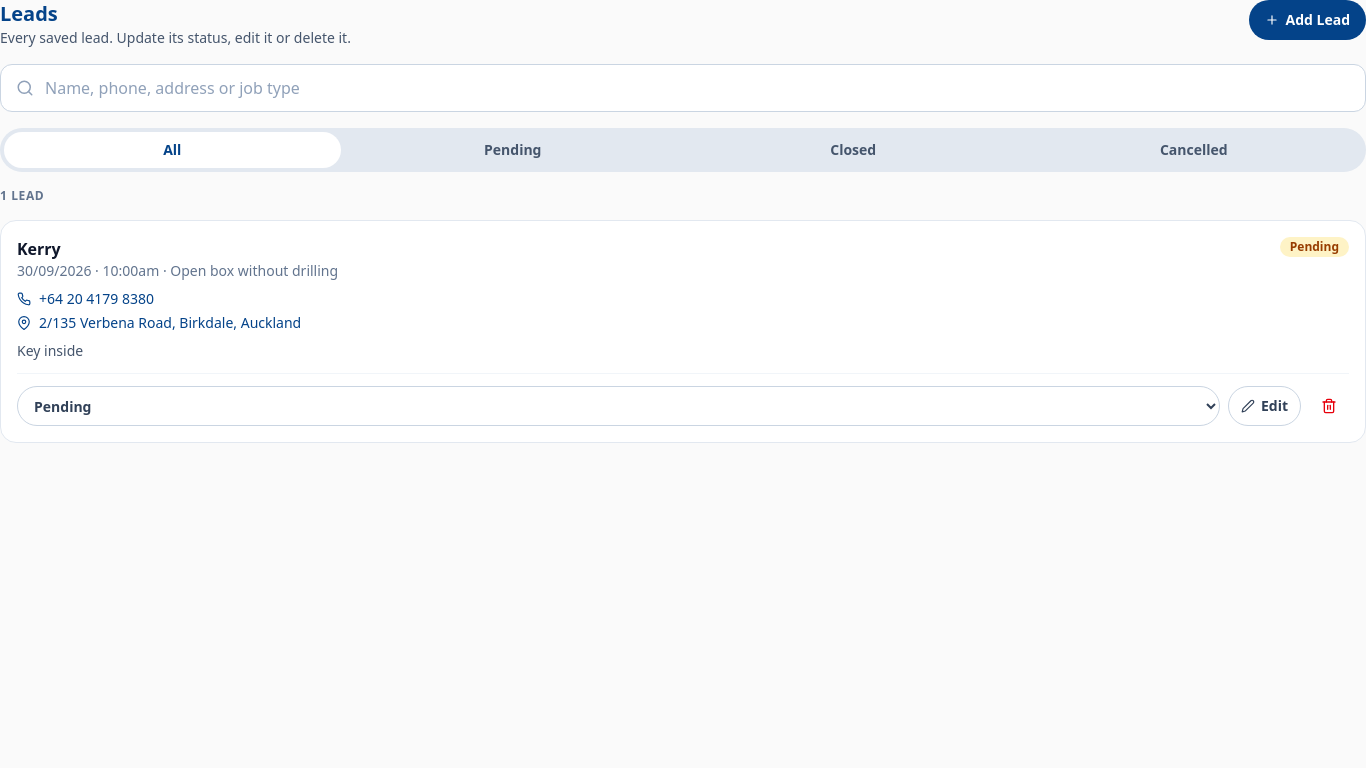
it: LeadHistory › asks for the prices before closing a lead
The width and height of the screenshot is (1366, 768).
Select "Closed" in the dropdown named "Status for Kerry": (618, 406) [17,386,1220,426]
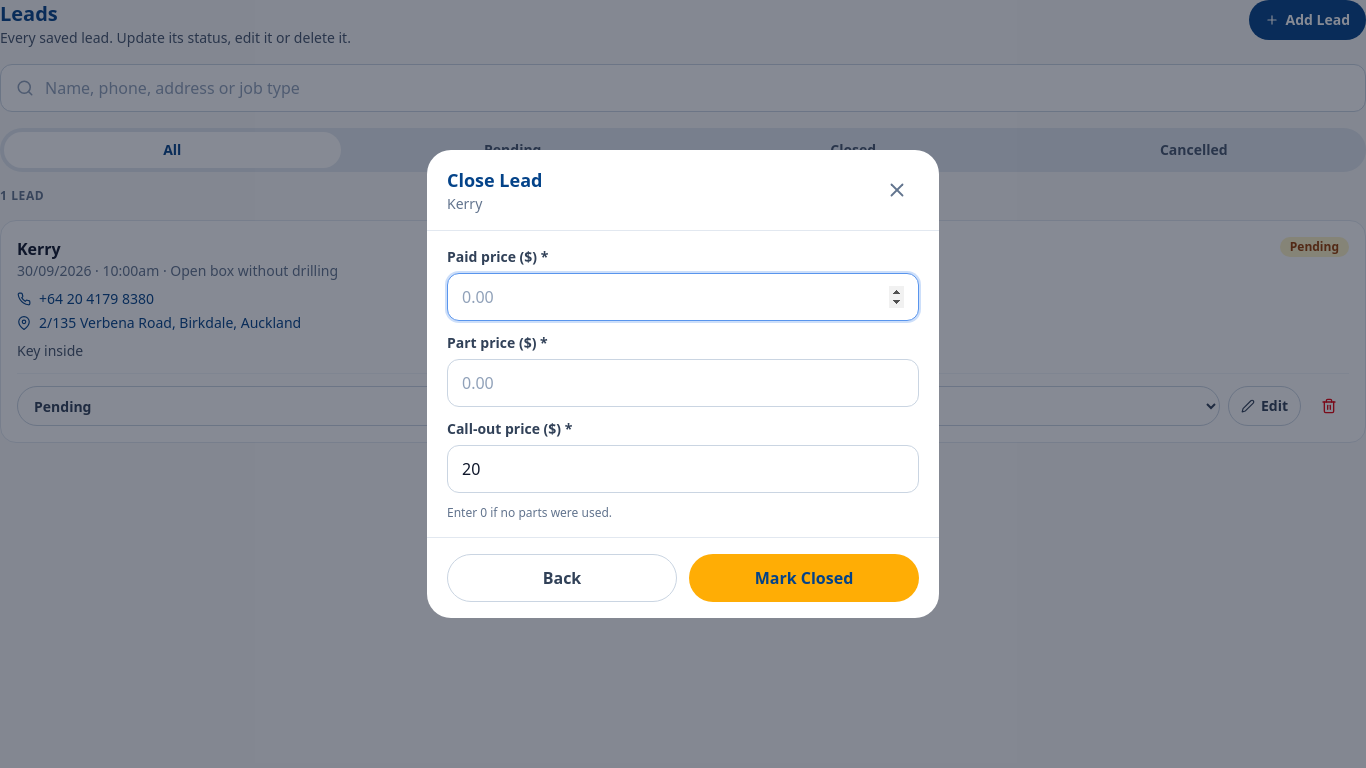
Expected: the number field labelled "Call-out price ($) *" holds "20", [447,445,919,493]
In the number field labelled "Paid price ($) *": (683, 297) [447,273,919,321], type "150"
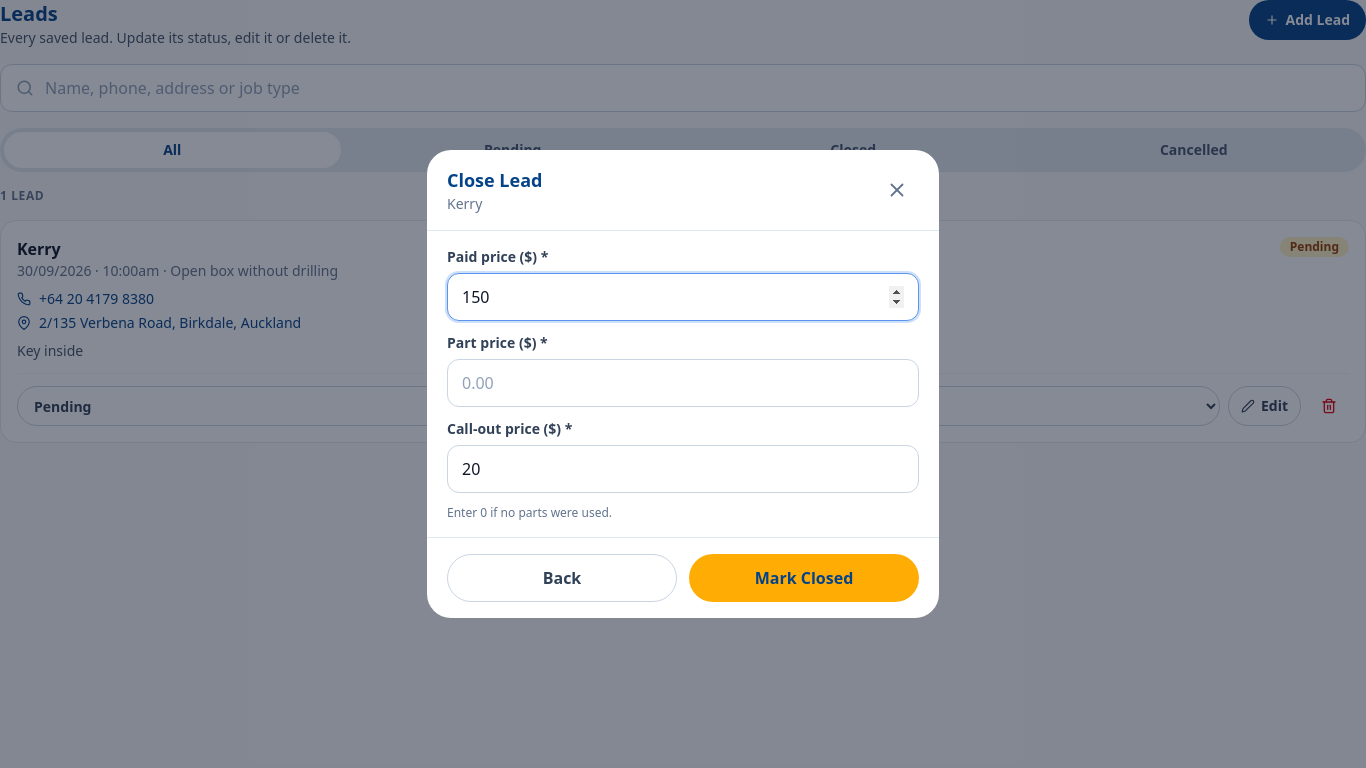
In the number field labelled "Part price ($) *": (683, 383) [447,359,919,407], type "0"
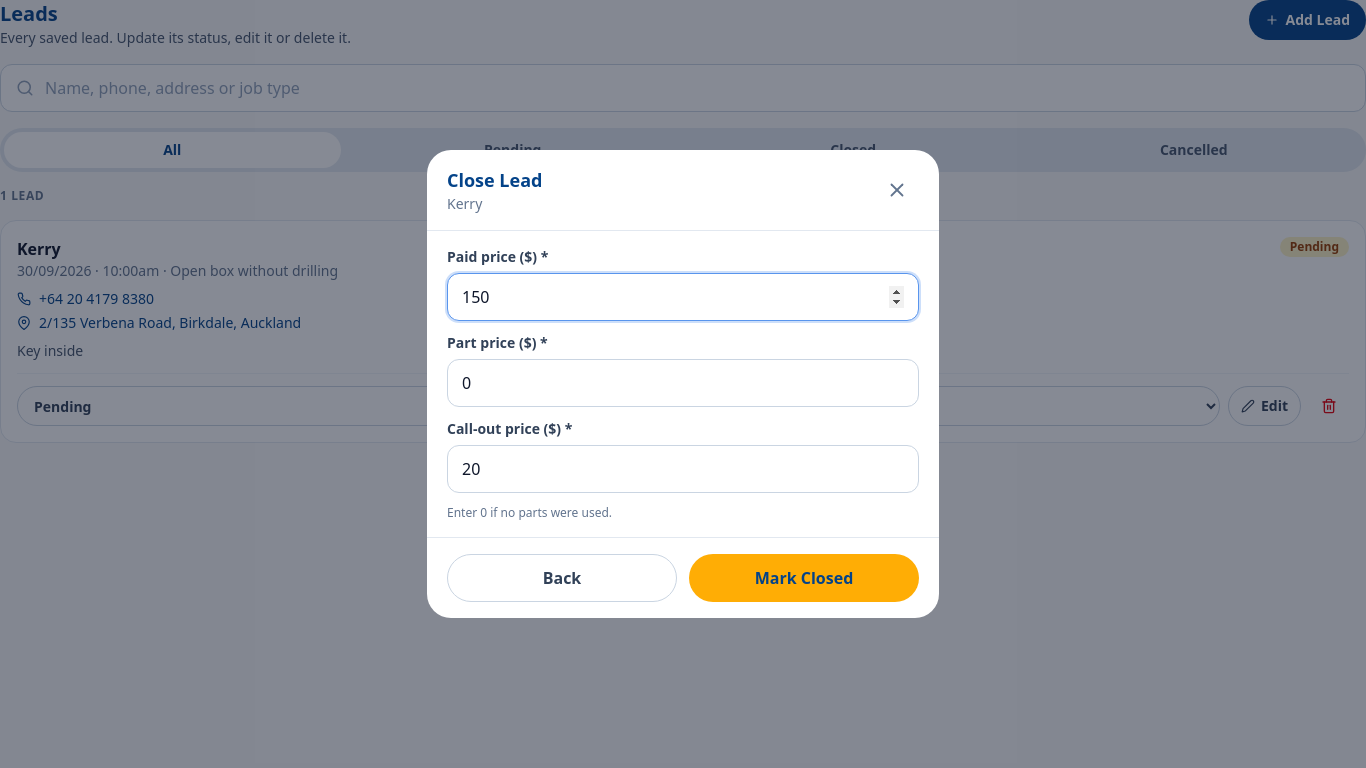
Click the button "Mark Closed": (804, 578) [689,554,919,602]
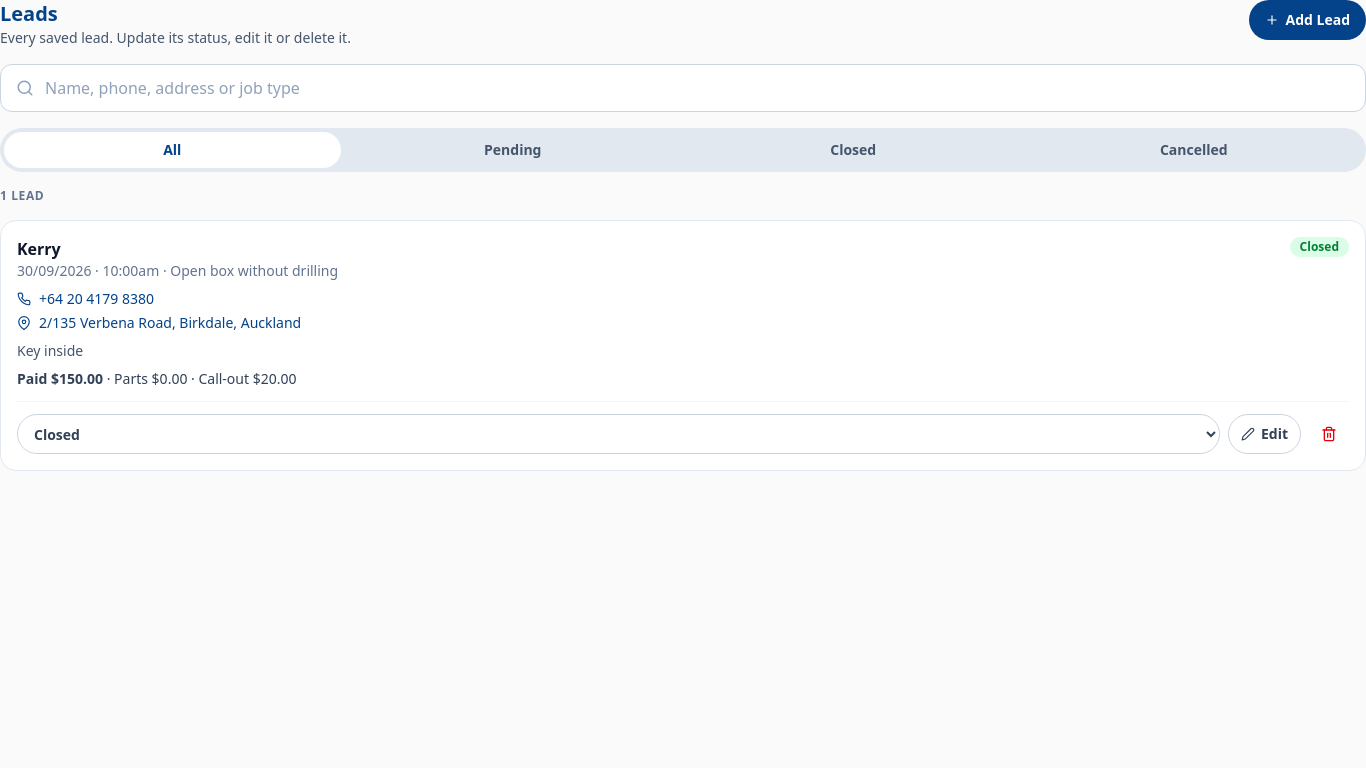
Expected: the text "Closed" is shown, [1290,237,1349,257]
Expected: the text "Paid $150.00" is shown, [17,369,103,388]
